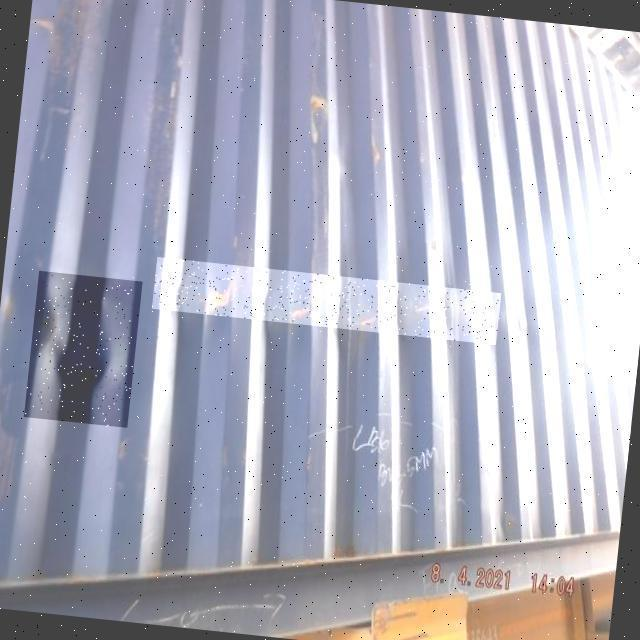dent: (152, 258, 502, 346), (24, 272, 143, 429)
